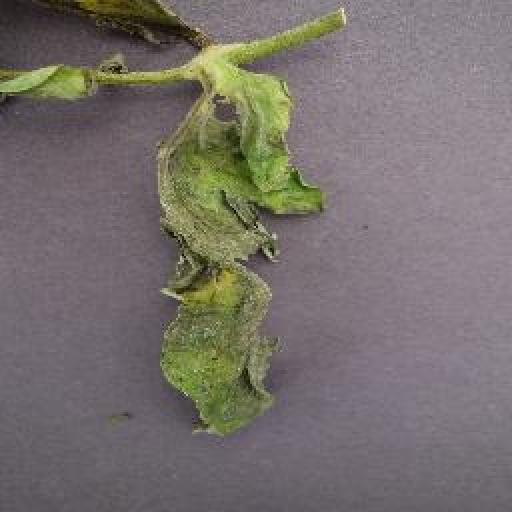Late Blight: (158, 69, 330, 436)
